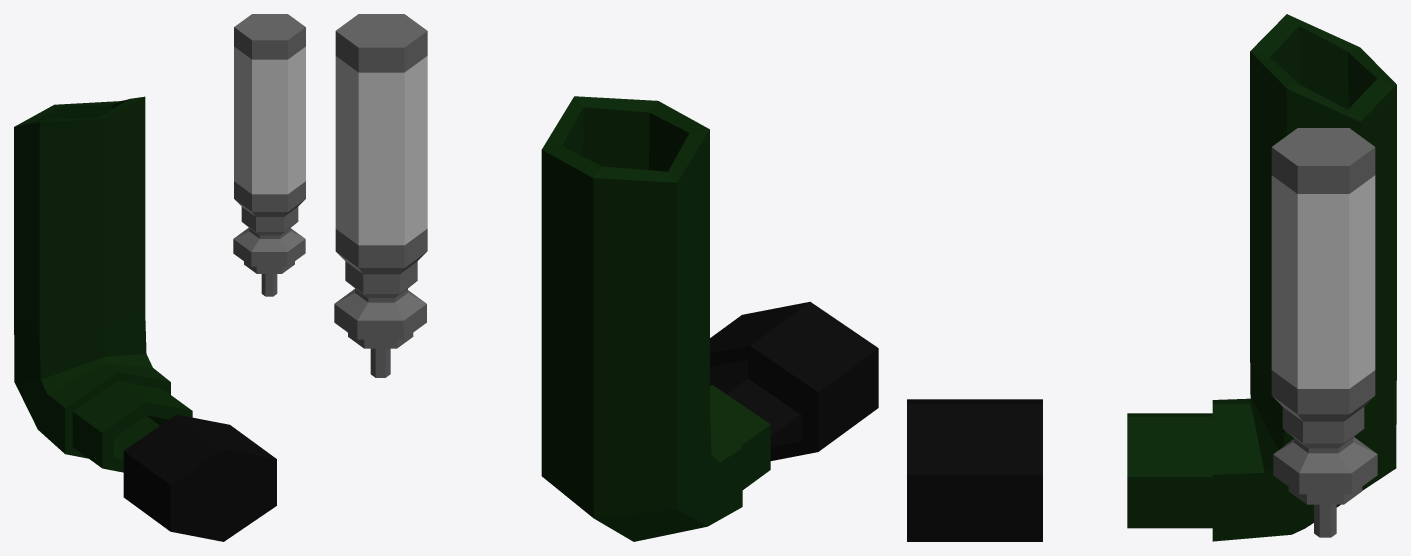
File: Inhalador entero.obj
The picture shows the model from 3 angles, left to right: view 1: azimuth 30°, elevation 25°; view 2: azimuth 150°, elevation 25°; view 3: azimuth 270°, elevation 25°; orthographic projection. The views are drawn at different scales.
Visible parts, largest first — view 1: Cylinder, Cylinder.001, Cylinder.002; view 2: Cylinder, Cylinder.001, Cylinder.002; view 3: Cylinder, Cylinder.001, Cylinder.002.
Part boxes in pixels (x1=…): Cylinder: x1=14, y1=96, x2=192, y2=472; Cylinder.001: x1=233, y1=14, x2=305, y2=296; Cylinder.002: x1=123, y1=414, x2=276, y2=541; Cylinder: x1=541, y1=96, x2=770, y2=541; Cylinder.001: x1=334, y1=14, x2=427, y2=377; Cylinder.002: x1=710, y1=301, x2=878, y2=460; Cylinder: x1=1127, y1=14, x2=1396, y2=541; Cylinder.001: x1=1271, y1=128, x2=1377, y2=537; Cylinder.002: x1=907, y1=399, x2=1042, y2=541.
Size of the model in its own units: 3.51 by 4.5 by 3.8.
